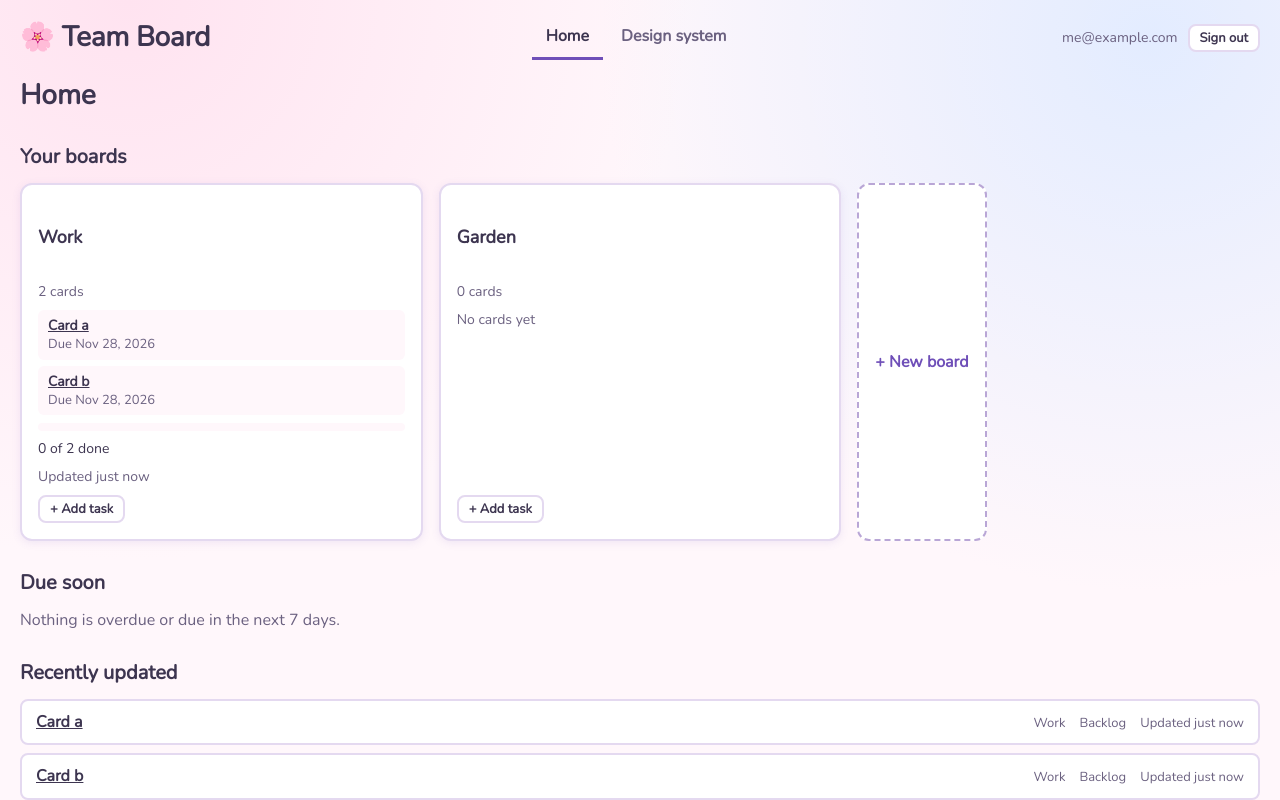
Scenario: adding a task from Home › saves it to the chosen board, stays on Home, and shows it on the tile
Click the button with aria-label "Add task to Garden". click: (500, 509)
box: [457,495,544,523]
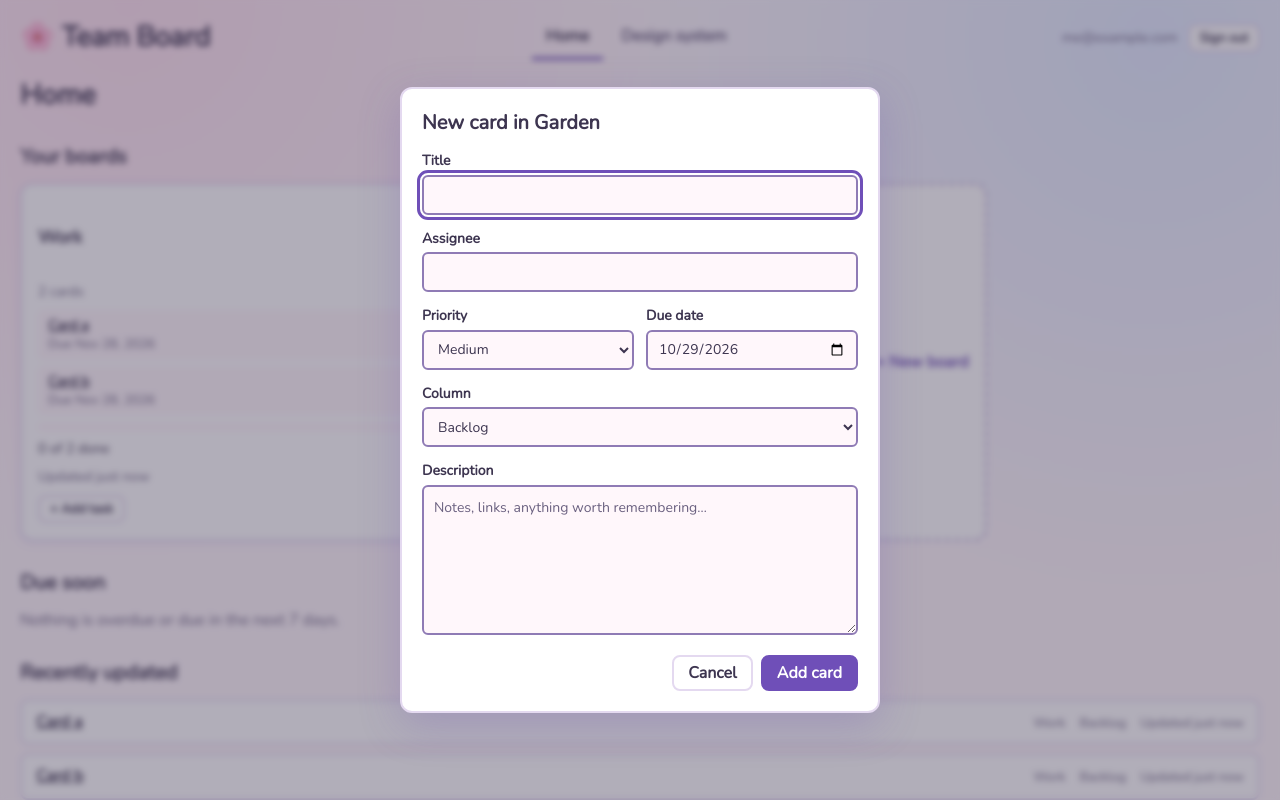
Type "Plant tulips" into the field labelled "Title". click: (640, 195)
box: [422,175,858,215]
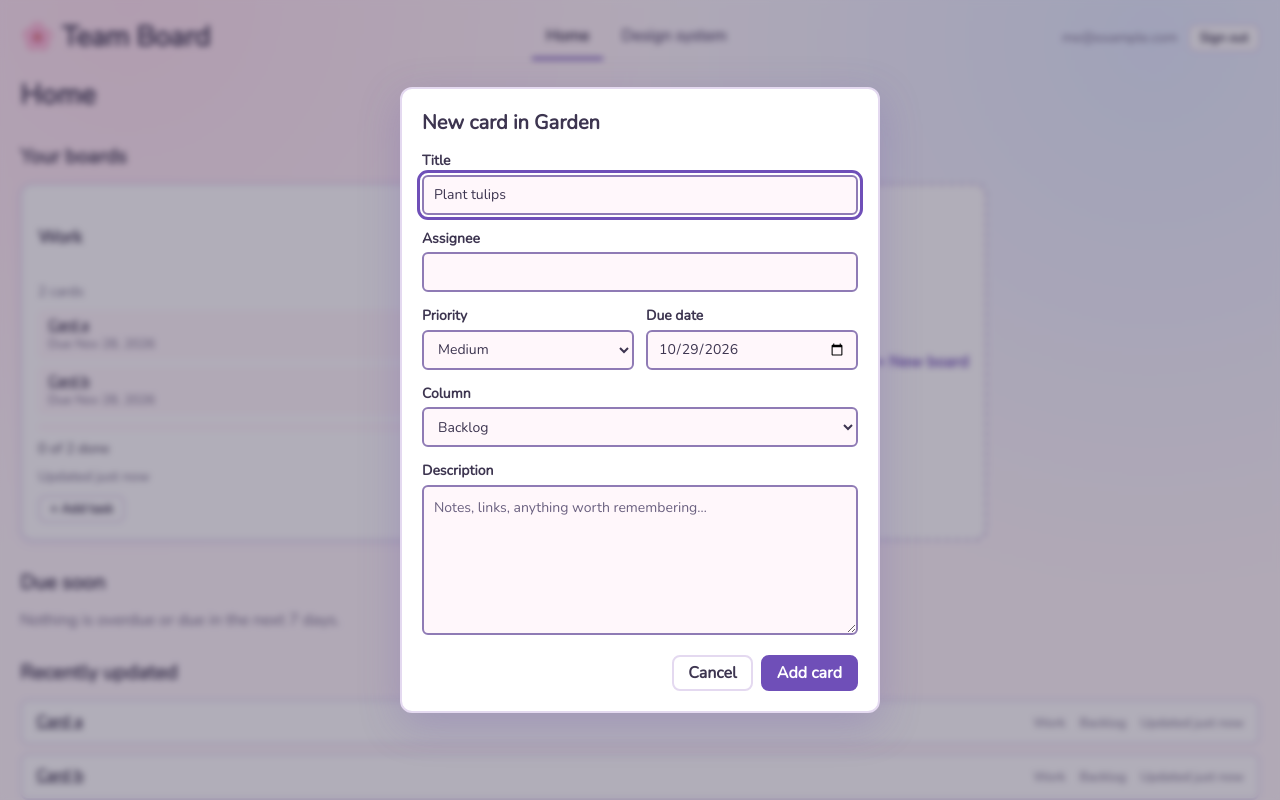
Type "Sam" into the field labelled "Assignee". click: (640, 272)
box: [422,252,858,292]
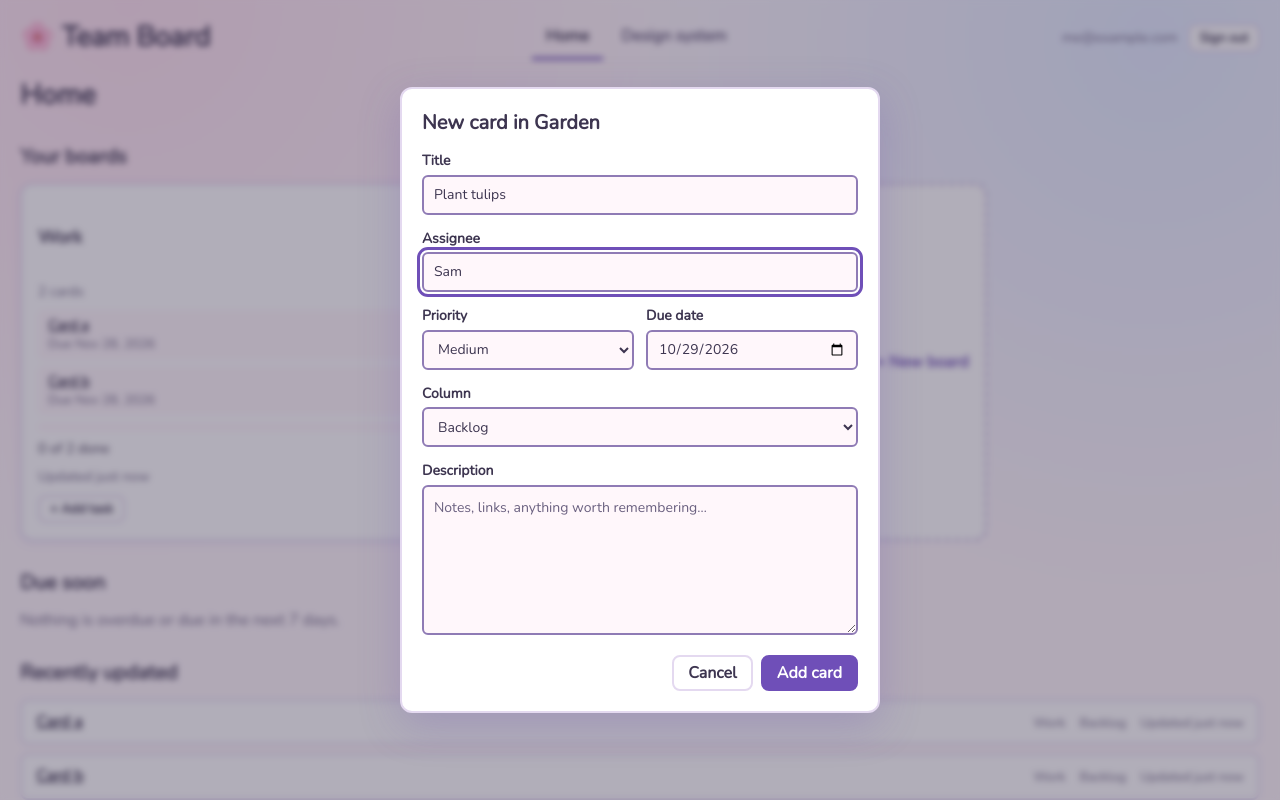
Click the button "Add card". click: (809, 673)
box: [761,655,858,691]
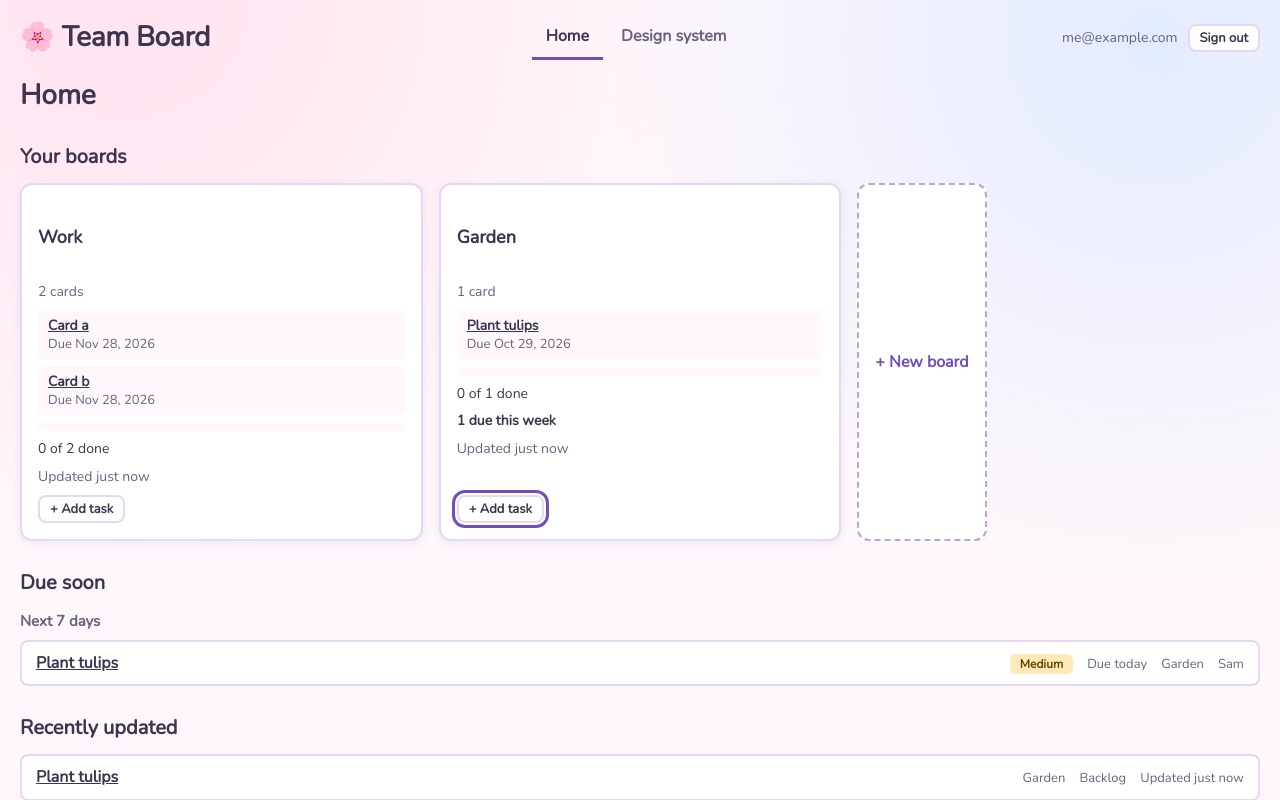
Expected: the heading "Home" is shown, [20,76,96,114]
Expected: the link "Plant tulips" below "1 card" is shown, [467,316,539,335]
